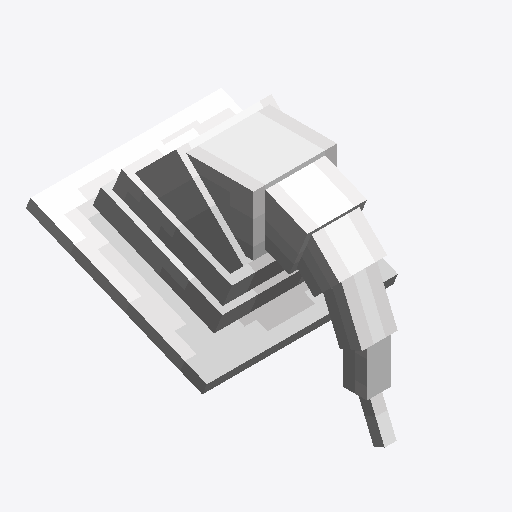
Isometric view (azimuth 45°, elevation 35.3°) of a Minecraft model made of 10 cuboids, textured from the same repository.
Parts seen in each view (by area): element 1, element 5, element 3, element 6, element 2, element 4, element 7, element 8, element 9, element 10.
Part boxes in pixels (left/top/right/bottom): element 1: left=26, top=88, right=397, bottom=393; element 5: left=186, top=104, right=336, bottom=260; element 3: left=112, top=108, right=283, bottom=305; element 6: left=265, top=156, right=366, bottom=273; element 2: left=93, top=178, right=303, bottom=332; element 4: left=135, top=94, right=280, bottom=273; element 7: left=297, top=207, right=386, bottom=296; element 8: left=323, top=262, right=397, bottom=350; element 9: left=343, top=335, right=390, bottom=399; element 10: left=359, top=392, right=396, bottom=447.
Bounding box in the file's own units: 16 × 16.78 × 22.55.